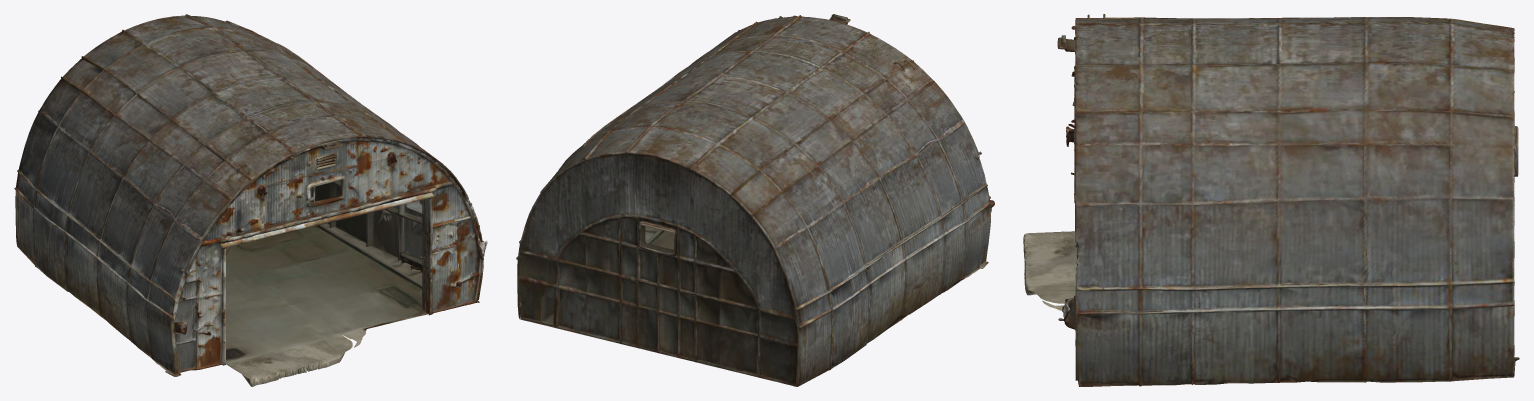
Rendered from hangar.glb.
3 renders of one model, left to right at view 1: azimuth 30°, elevation 25°; view 2: azimuth 150°, elevation 25°; view 3: azimuth 270°, elevation 25°, orthographic. The views are drawn at different scales.
Visible parts, largest first — view 1: Hangar; view 2: Hangar; view 3: Hangar.
Boxes of the visible parts, x1=… form: Hangar: x1=14, y1=14, x2=487, y2=386; Hangar: x1=516, y1=14, x2=994, y2=386; Hangar: x1=1023, y1=14, x2=1519, y2=386.
Bounding box in the file's own units: 0.9093 × 0.5778 × 0.9863.
Materials: 1 (1 with a texture image).
